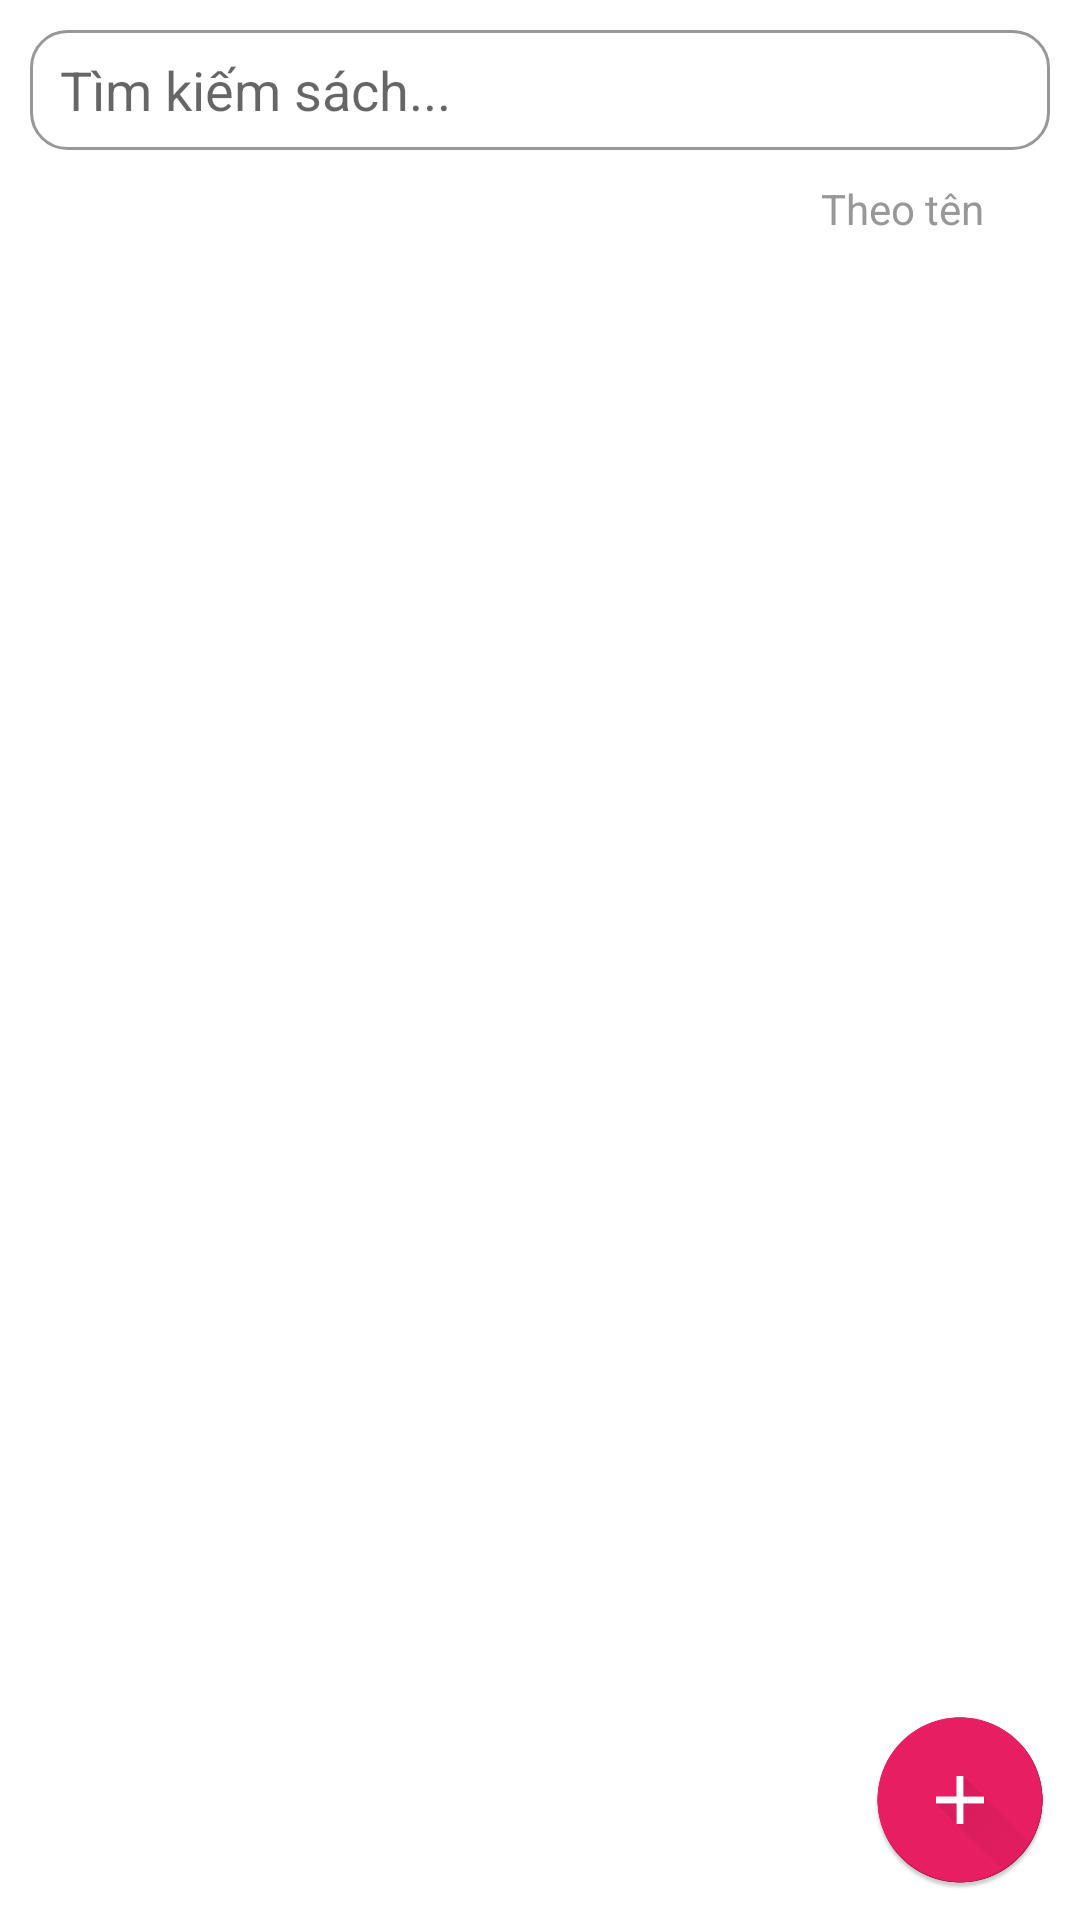

Named icons in this screenshot (1080*1920) and their bounding boxes, Rect(x1, y1, x2, y2):
add: Rect(877, 1717, 1043, 1887)
